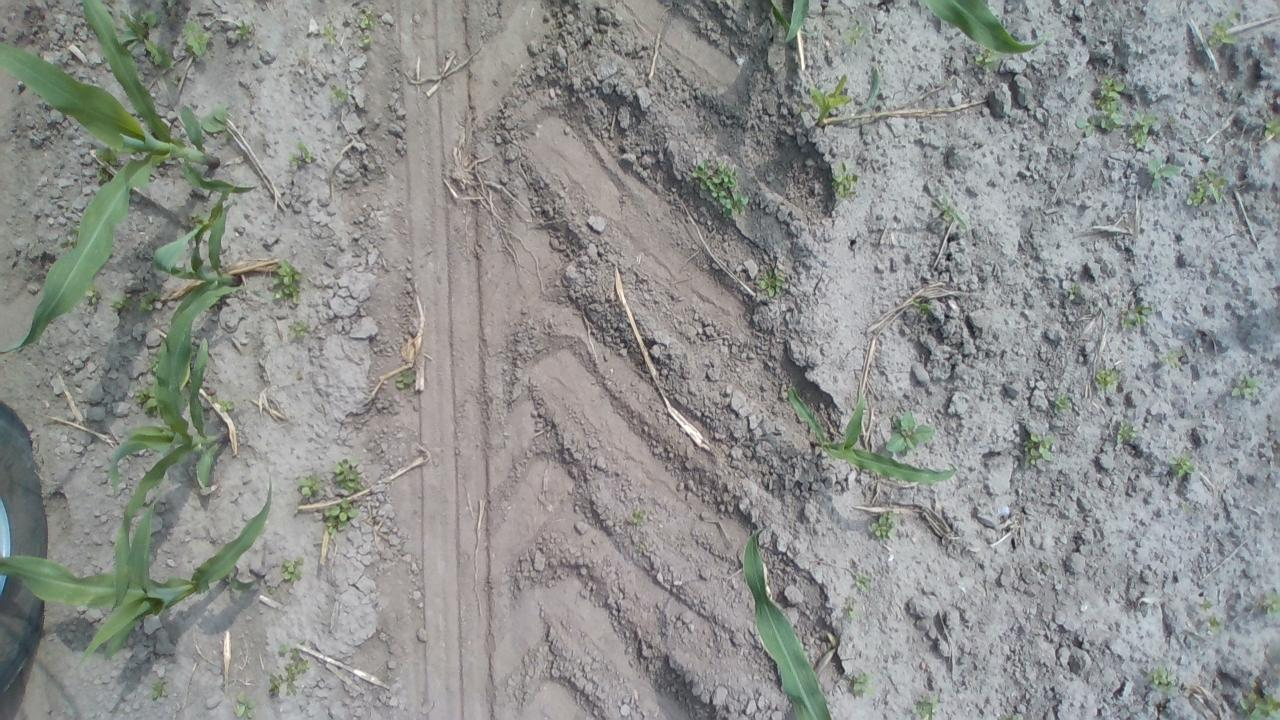Maize: (0, 0, 258, 358), (0, 473, 274, 669), (108, 285, 258, 496), (741, 523, 833, 720), (150, 194, 240, 388), (786, 384, 956, 484), (764, 0, 1050, 55), (808, 70, 852, 128)
Weeds: (298, 458, 364, 537), (116, 7, 178, 70), (692, 158, 751, 219), (1076, 75, 1126, 135), (886, 410, 936, 456), (1237, 678, 1280, 720), (268, 256, 304, 306), (267, 658, 311, 698), (1185, 168, 1228, 208), (108, 288, 164, 318), (177, 18, 213, 57), (200, 102, 234, 141), (1128, 107, 1158, 150), (1208, 10, 1241, 48), (830, 159, 859, 201), (1147, 158, 1185, 190), (1022, 430, 1056, 465), (936, 190, 966, 226), (754, 268, 786, 297), (1146, 664, 1178, 693), (1120, 303, 1154, 330), (94, 148, 121, 182), (1198, 599, 1224, 634), (288, 138, 318, 168), (1114, 417, 1141, 450), (1230, 372, 1264, 398), (868, 510, 896, 540), (135, 386, 160, 418), (355, 4, 384, 31), (910, 693, 939, 720), (230, 690, 256, 720), (227, 16, 256, 42), (973, 47, 1003, 72), (57, 224, 80, 254), (1168, 452, 1195, 477), (841, 21, 866, 47), (1096, 366, 1121, 392), (279, 556, 304, 582), (1256, 590, 1280, 614), (852, 670, 876, 694), (286, 318, 309, 342), (319, 22, 338, 50), (146, 678, 168, 700), (328, 82, 348, 106), (910, 296, 936, 314), (394, 369, 416, 390), (842, 598, 864, 619), (1054, 392, 1073, 416), (1161, 349, 1183, 368), (278, 640, 304, 656), (183, 209, 207, 226), (84, 285, 104, 305), (626, 506, 645, 525), (353, 33, 374, 49), (247, 284, 266, 301), (856, 574, 872, 594), (1265, 118, 1280, 138), (145, 352, 159, 372), (996, 711, 1025, 720), (1066, 282, 1080, 300), (219, 398, 235, 412), (793, 102, 807, 115), (207, 393, 218, 404), (165, 0, 178, 9), (266, 586, 276, 594)
